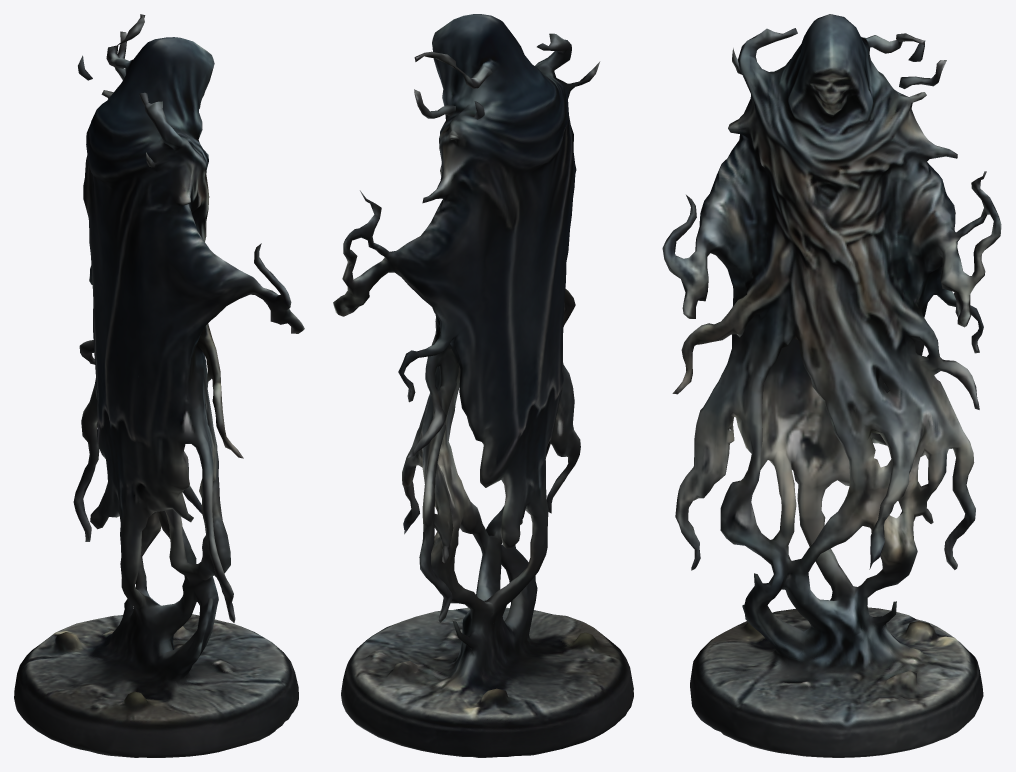
File: wraith.glb
3 renders of one model, left to right at view 1: azimuth 30°, elevation 25°; view 2: azimuth 150°, elevation 25°; view 3: azimuth 270°, elevation 25°, orthographic. The views are drawn at different scales.
Parts seen in each view (by area): view 1: lagrange_node; view 2: lagrange_node; view 3: lagrange_node.
Part boxes in pixels (<box>): lagrange_node: <box>14,14,304,757</box>; lagrange_node: <box>333,14,633,757</box>; lagrange_node: <box>662,14,1001,757</box>.
Bounding box in the file's own units: 0.7831 × 2.01 × 0.8984.
Materials: 1 (1 with a texture image).
